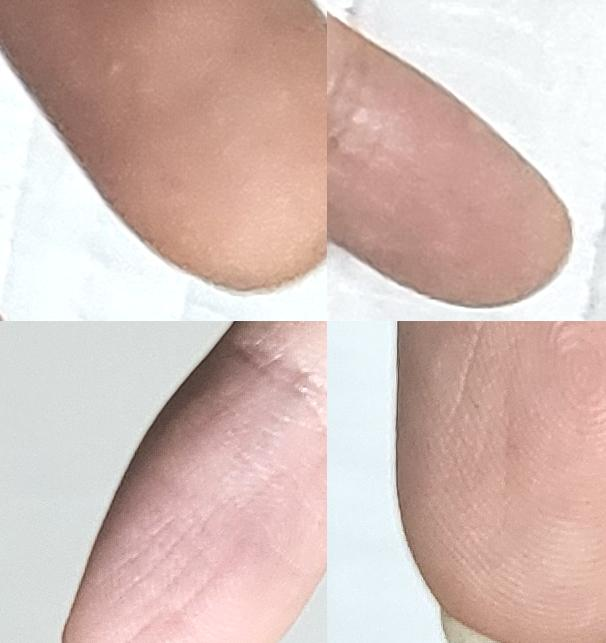Fingerprints: (64, 356, 327, 643), (393, 321, 606, 643), (327, 36, 573, 308)
